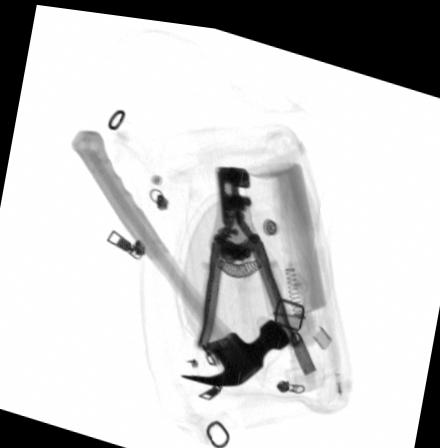Hammer: (70, 126, 289, 381)
Pliers: (194, 160, 300, 347)
